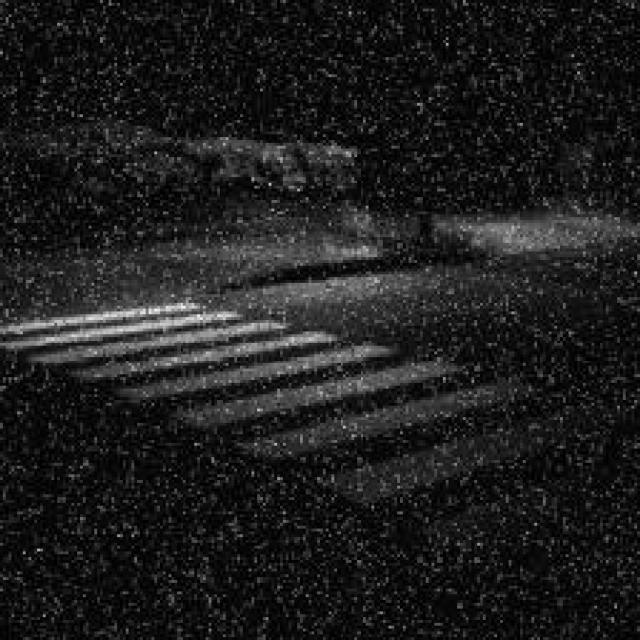crosswalk: (0, 296, 640, 556)
